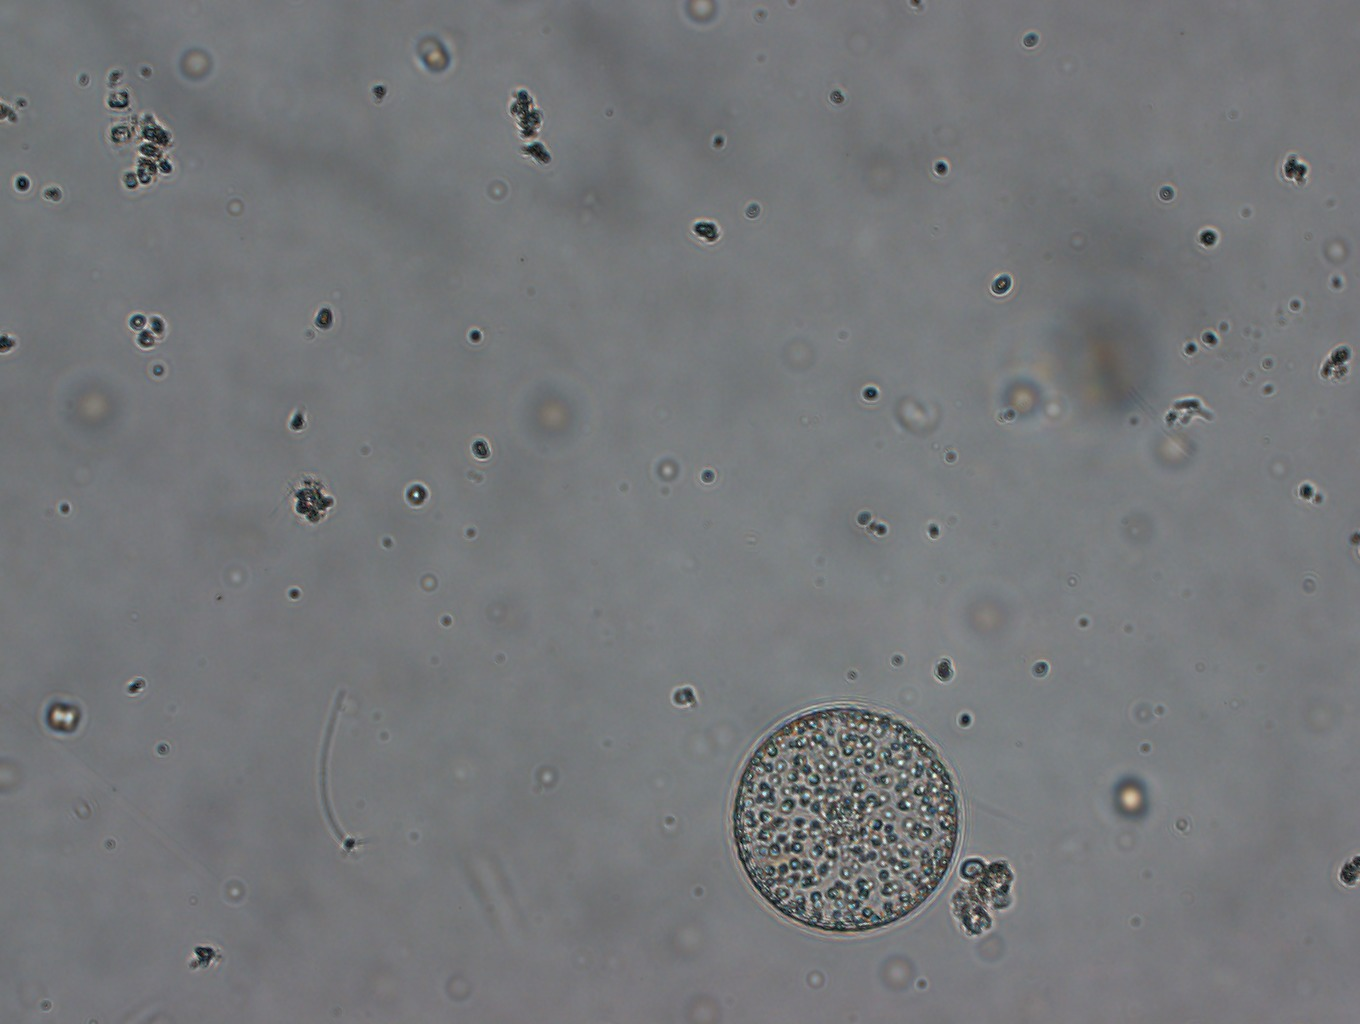coscinodiscus: (727, 696, 963, 938)
